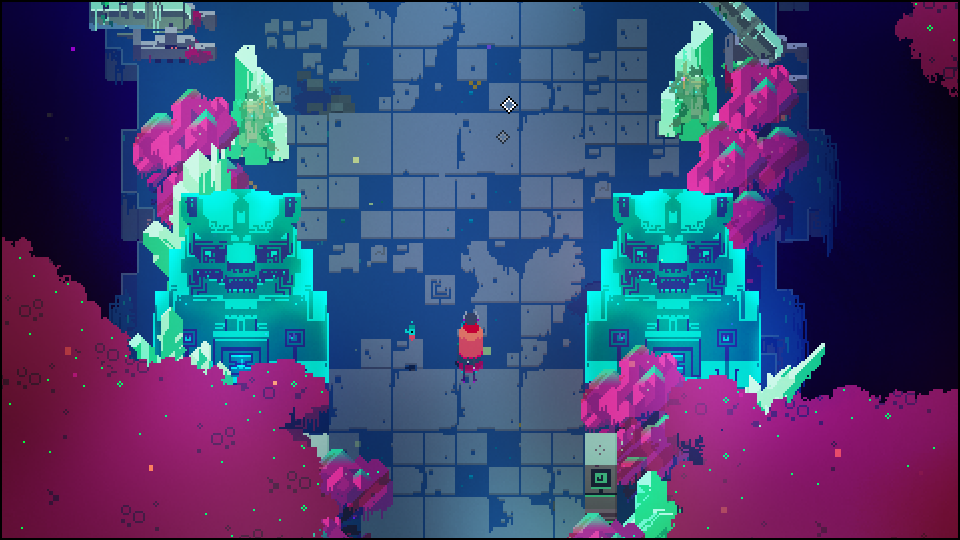player: (453, 311, 487, 376)
